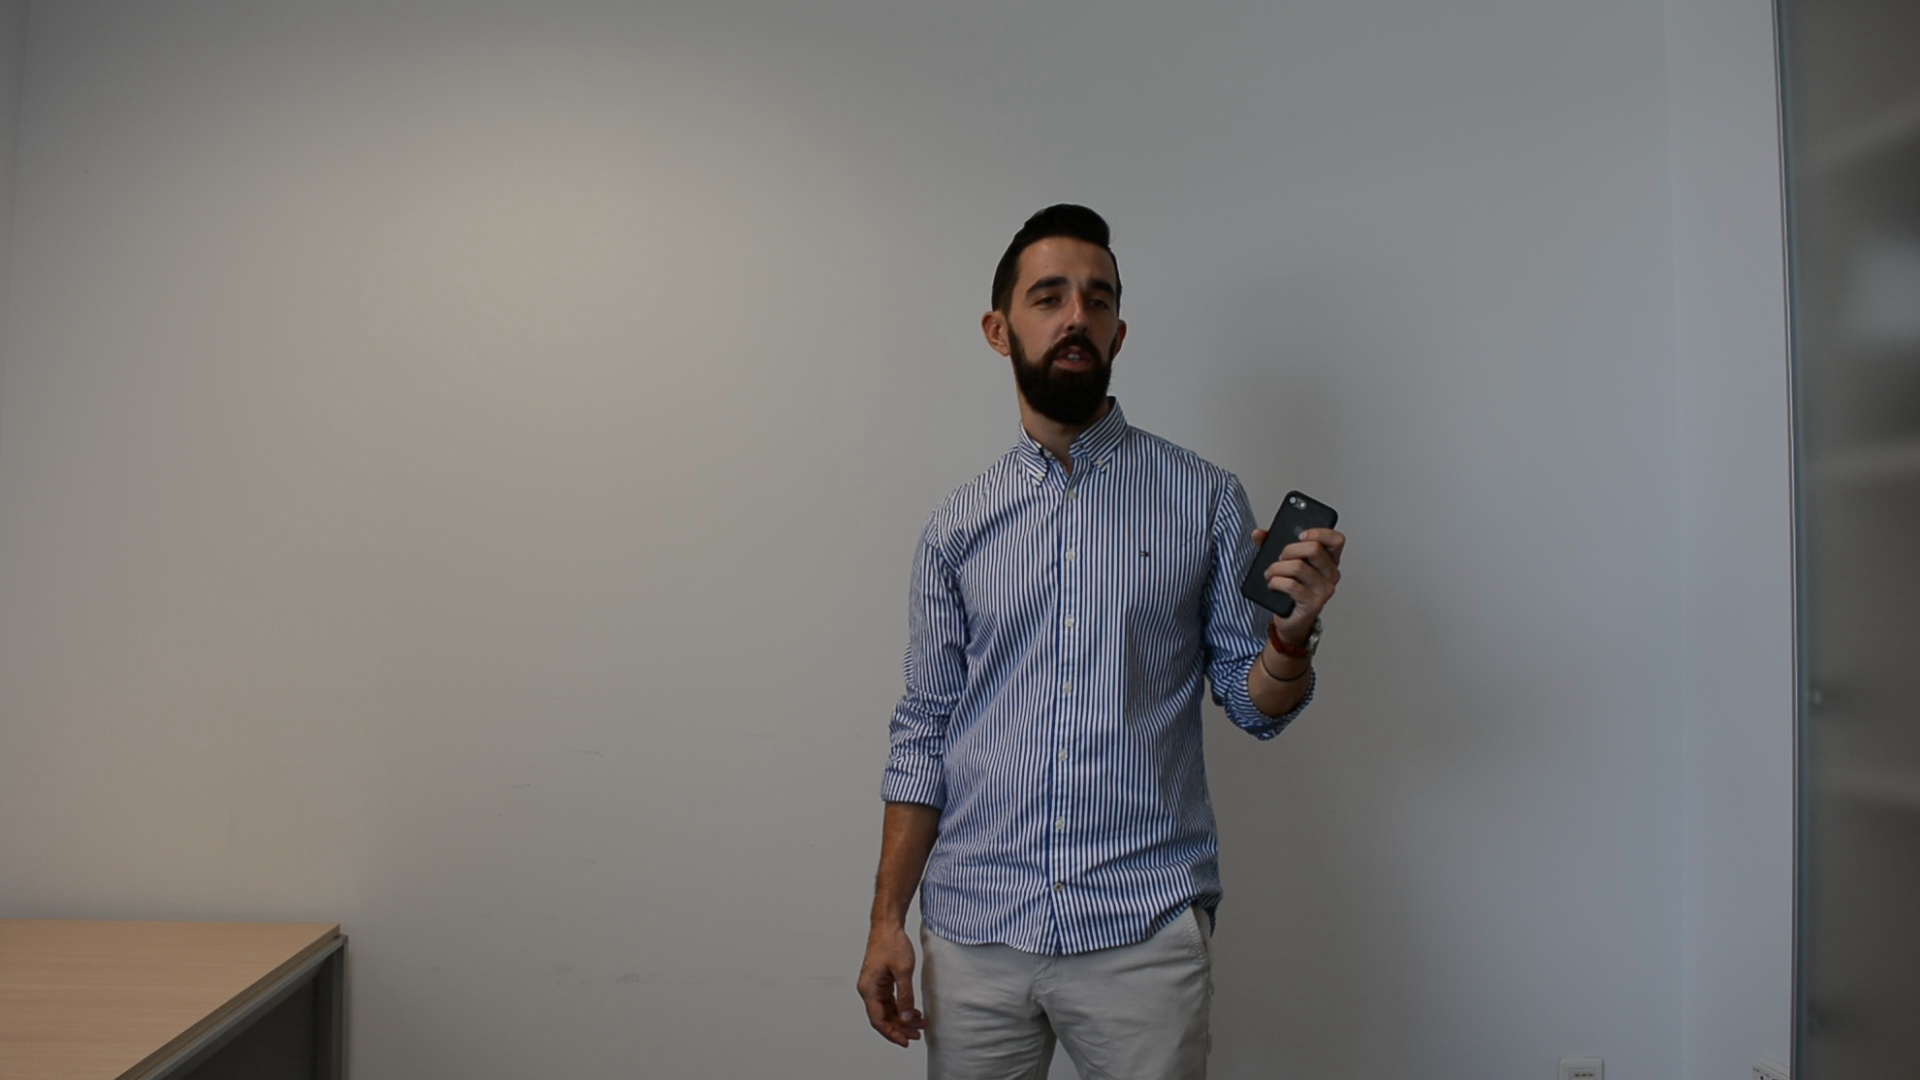smartphone: (1240, 487, 1341, 620)
